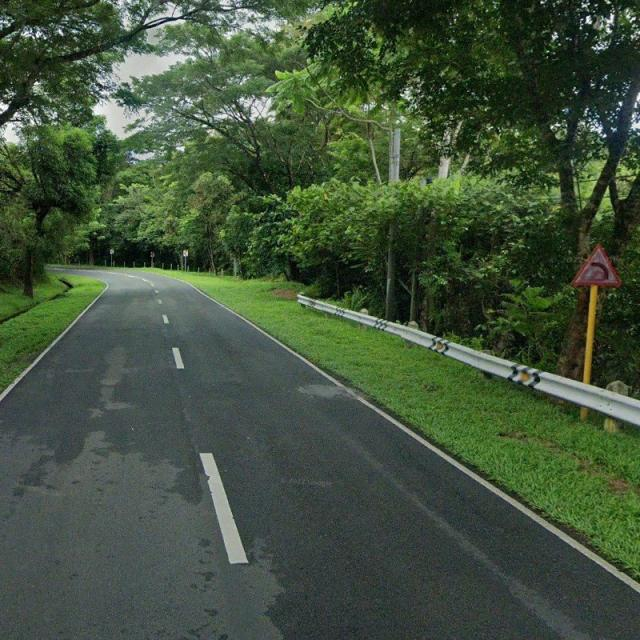warn_left_curve: (572, 243, 622, 286)
